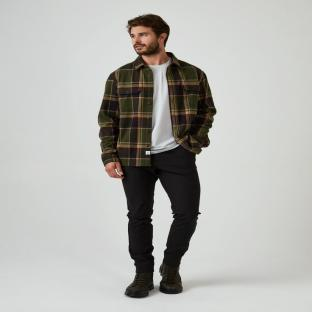Human: (98, 14, 216, 296)
